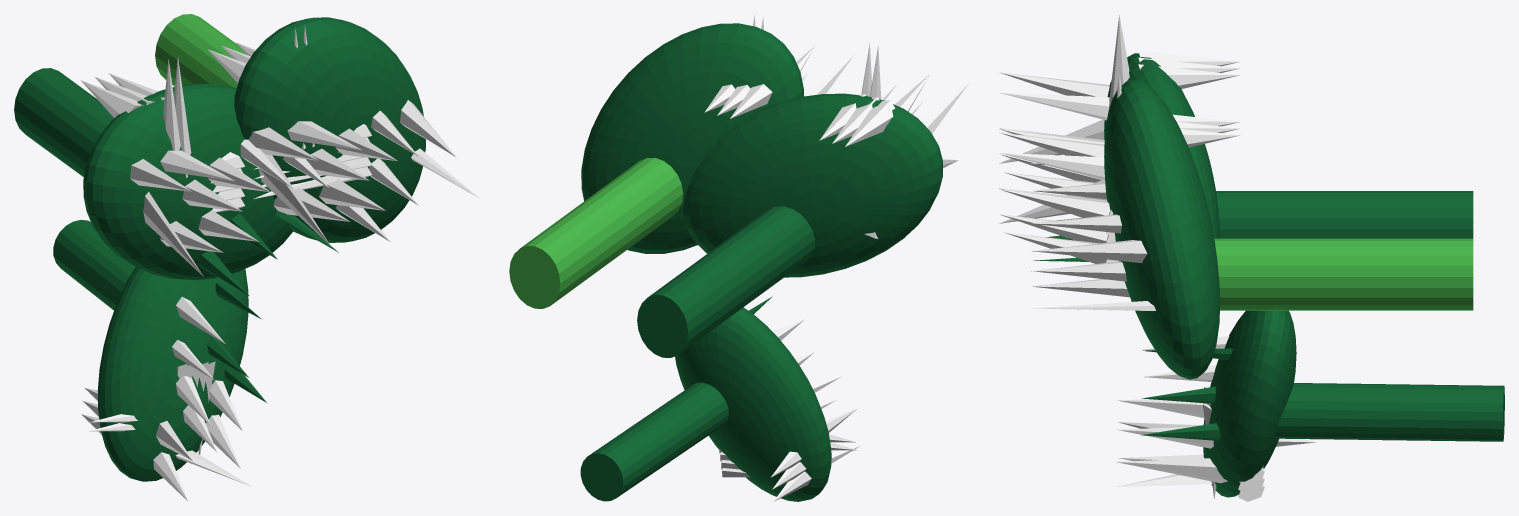
Rendered from tinker.obj.
The picture shows the model from 3 angles, left to right: view 1: azimuth 30°, elevation 25°; view 2: azimuth 150°, elevation 25°; view 3: azimuth 270°, elevation 25°; orthographic projection. The views are drawn at different scales.
Parts seen in each view (by area): view 1: group_0_1206582, group_0_16448250, group_0_4634441; view 2: group_0_1206582, group_0_4634441, group_0_16448250; view 3: group_0_1206582, group_0_16448250, group_0_4634441.
Part boxes in pixels (x1=…): group_0_1206582: x1=14, y1=17, x2=425, y2=481; group_0_16448250: x1=80, y1=25, x2=479, y2=501; group_0_4634441: x1=155, y1=14, x2=246, y2=87; group_0_1206582: x1=580, y1=23, x2=942, y2=501; group_0_4634441: x1=509, y1=158, x2=683, y2=308; group_0_16448250: x1=704, y1=14, x2=968, y2=501; group_0_1206582: x1=1033, y1=53, x2=1504, y2=497; group_0_16448250: x1=998, y1=15, x2=1315, y2=501; group_0_4634441: x1=1214, y1=238, x2=1473, y2=310.
Size of the model in its own units: 38.86 by 48 by 48.06.
